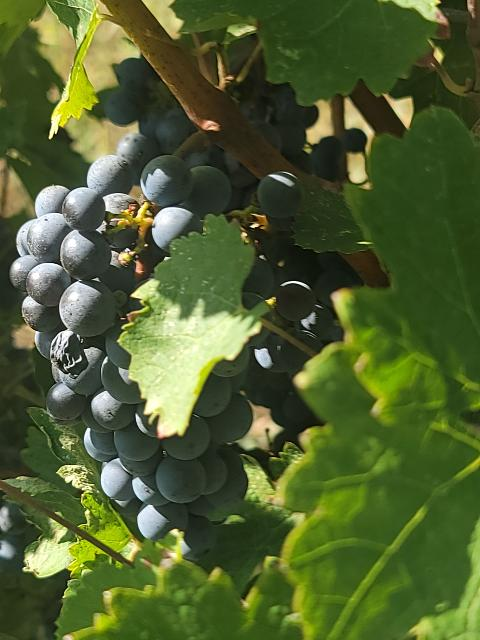grapes: (10, 134, 240, 549)
